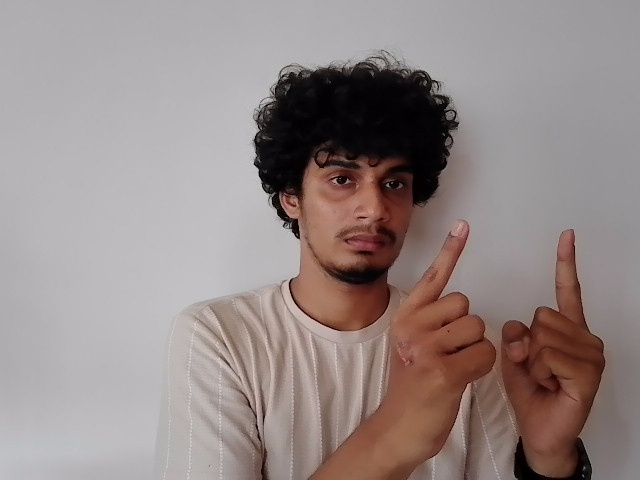play: (388, 216, 606, 426)
